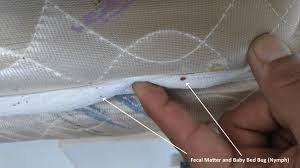bed-matress: (1, 1, 300, 144)
